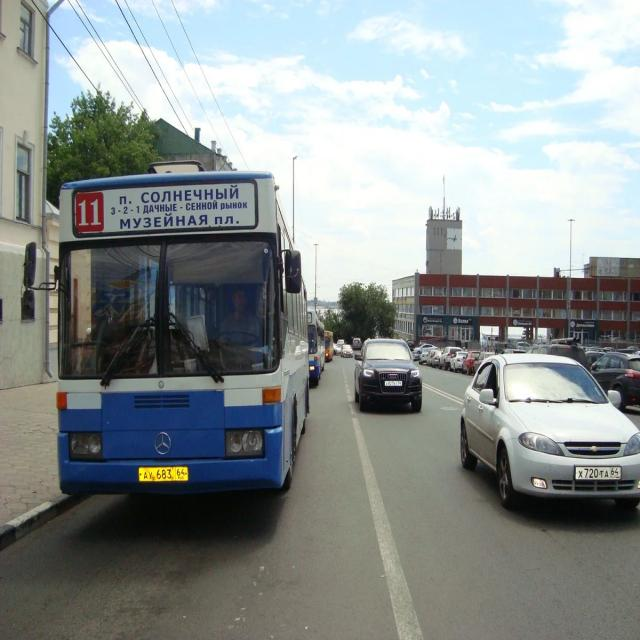number-of-bus: (77, 193, 104, 232)
